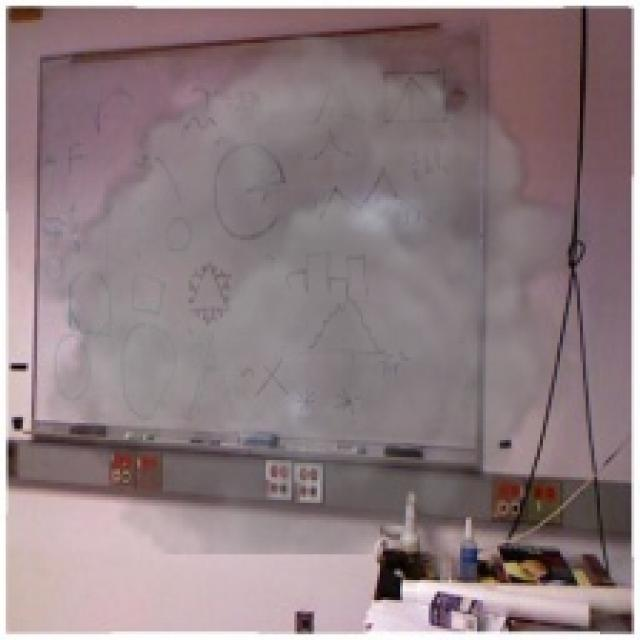Smoke: (26, 34, 592, 554)
